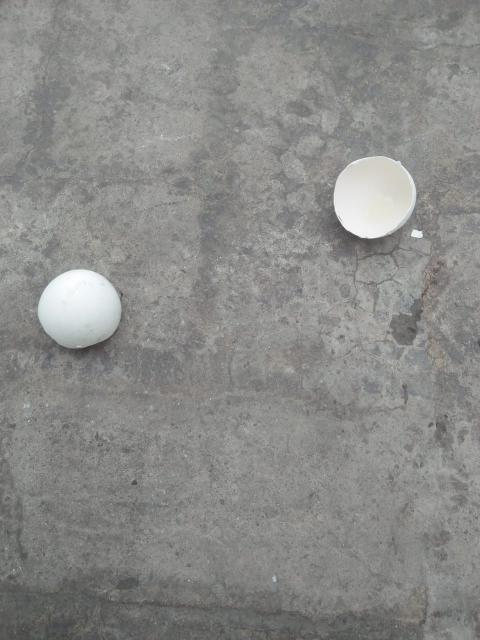Roto: (37, 268, 122, 352), (334, 154, 417, 240)
